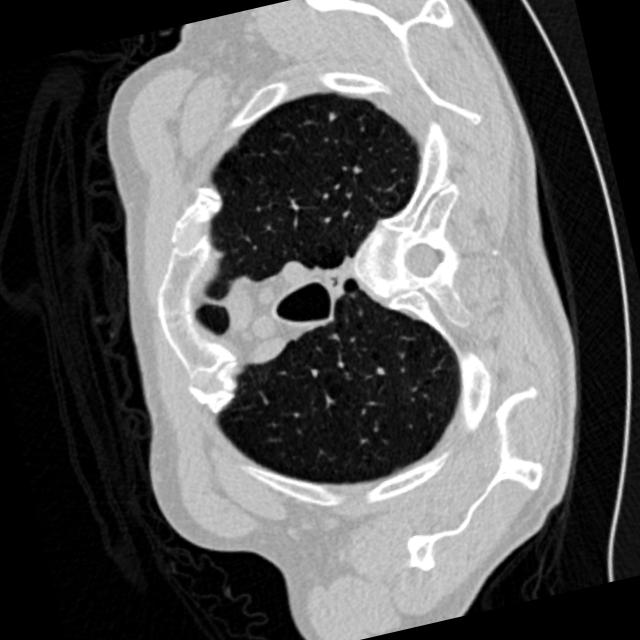nodule: (319, 103, 345, 129)
